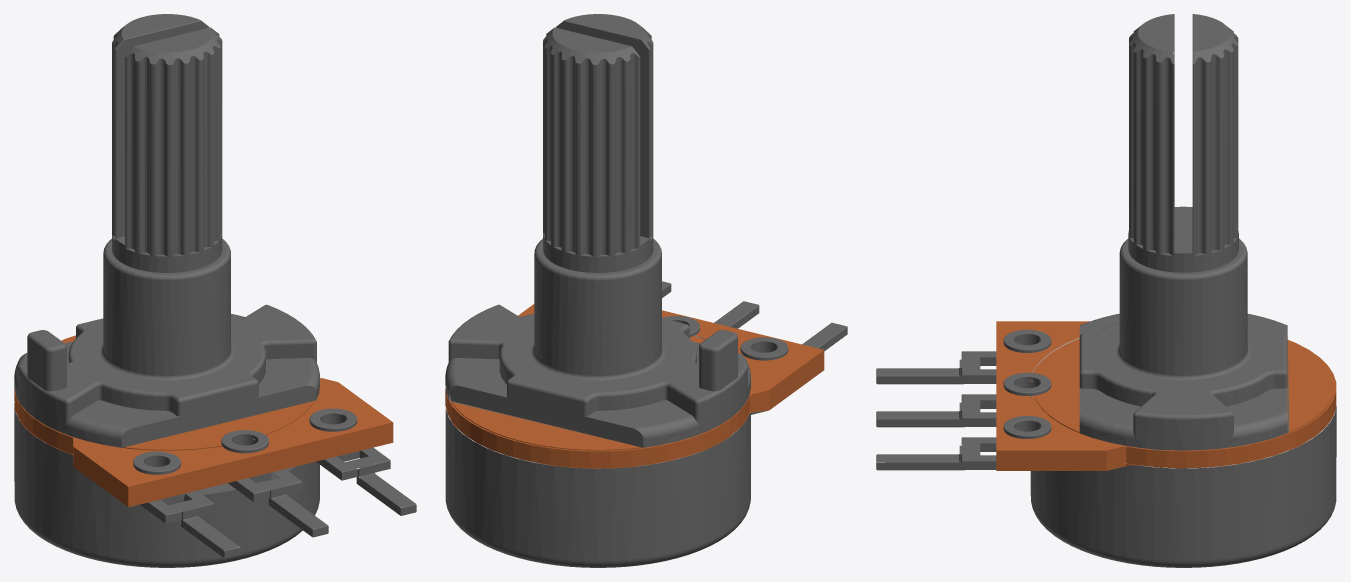
The model's file is potensiometer.fbx.
3 views of the same model, side by side, from view 1: azimuth 30°, elevation 25°; view 2: azimuth 150°, elevation 25°; view 3: azimuth 270°, elevation 25° (orthographic).
Visible parts, largest first — view 1: Potentiometer; view 2: Potentiometer; view 3: Potentiometer.
Boxes of the visible parts, x1,y1,x2,y2 form: Potentiometer: (14, 14, 416, 567); Potentiometer: (445, 14, 847, 567); Potentiometer: (876, 14, 1336, 567).
Size of the model in its own units: 1626 by 2781 by 2444.
